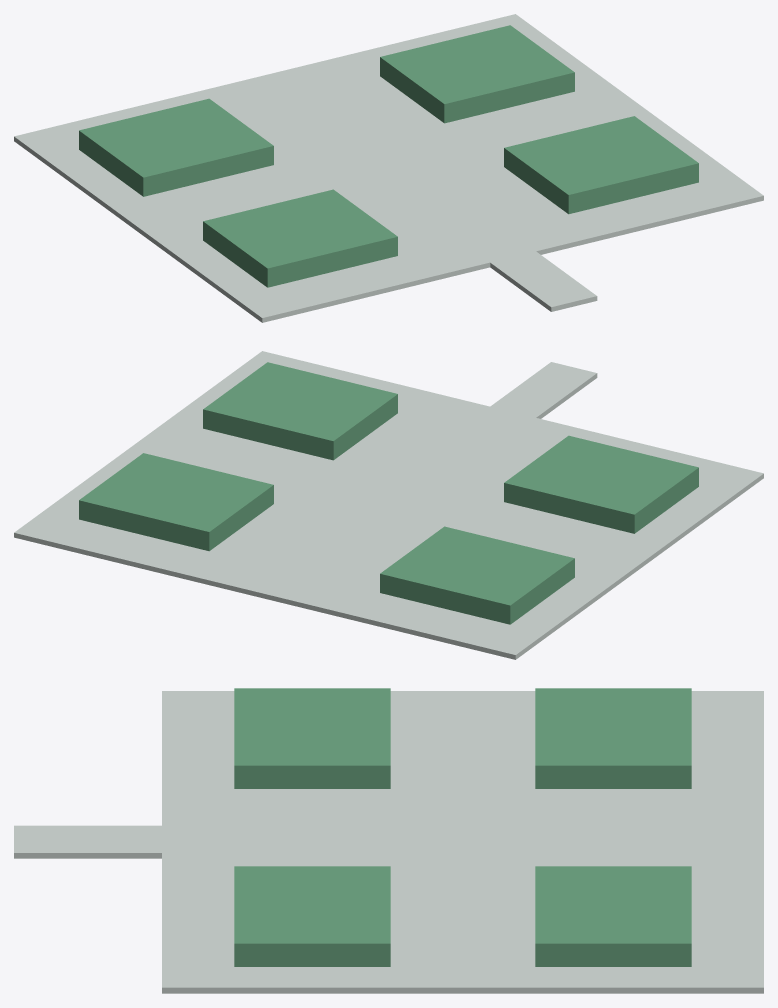
The model's file is garden-interior.glb.
The picture shows the model from 3 angles, top to bottom: view 1: azimuth 30°, elevation 25°; view 2: azimuth 150°, elevation 25°; view 3: azimuth 270°, elevation 25°; orthographic projection. The views are drawn at different scales.
Visible parts, largest first — view 1: garden/court-floor.002, garden/bed-0.002, garden/bed-1.002, garden/bed-3.002, garden/bed-2.002, garden/portal-floor-0.002; view 2: garden/court-floor.002, garden/bed-2.002, garden/bed-1.002, garden/bed-3.002, garden/bed-0.002, garden/portal-floor-0.002; view 3: garden/court-floor.002, garden/bed-0.002, garden/bed-1.002, garden/bed-2.002, garden/bed-3.002, garden/portal-floor-0.002.
Part boxes in pixels (bbox=[...]): garden/court-floor.002: bbox=[14, 14, 763, 322]; garden/bed-0.002: bbox=[79, 98, 273, 196]; garden/bed-1.002: bbox=[380, 25, 574, 123]; garden/bed-3.002: bbox=[504, 116, 698, 214]; garden/bed-2.002: bbox=[203, 189, 397, 287]; garden/portal-floor-0.002: bbox=[490, 251, 597, 311]; garden/court-floor.002: bbox=[14, 351, 763, 659]; garden/bed-2.002: bbox=[504, 435, 698, 533]; garden/bed-1.002: bbox=[79, 453, 273, 551]; garden/bed-3.002: bbox=[203, 362, 397, 460]; garden/bed-0.002: bbox=[380, 526, 574, 624]; garden/portal-floor-0.002: bbox=[490, 362, 597, 418]; garden/court-floor.002: bbox=[162, 691, 763, 993]; garden/bed-0.002: bbox=[535, 688, 691, 788]; garden/bed-1.002: bbox=[535, 866, 691, 966]; garden/bed-2.002: bbox=[234, 688, 390, 788]; garden/bed-3.002: bbox=[234, 866, 390, 966]; garden/portal-floor-0.002: bbox=[14, 825, 161, 858].
Bounding box in the file's own units: 16.38 × 0.75 × 17.5.
